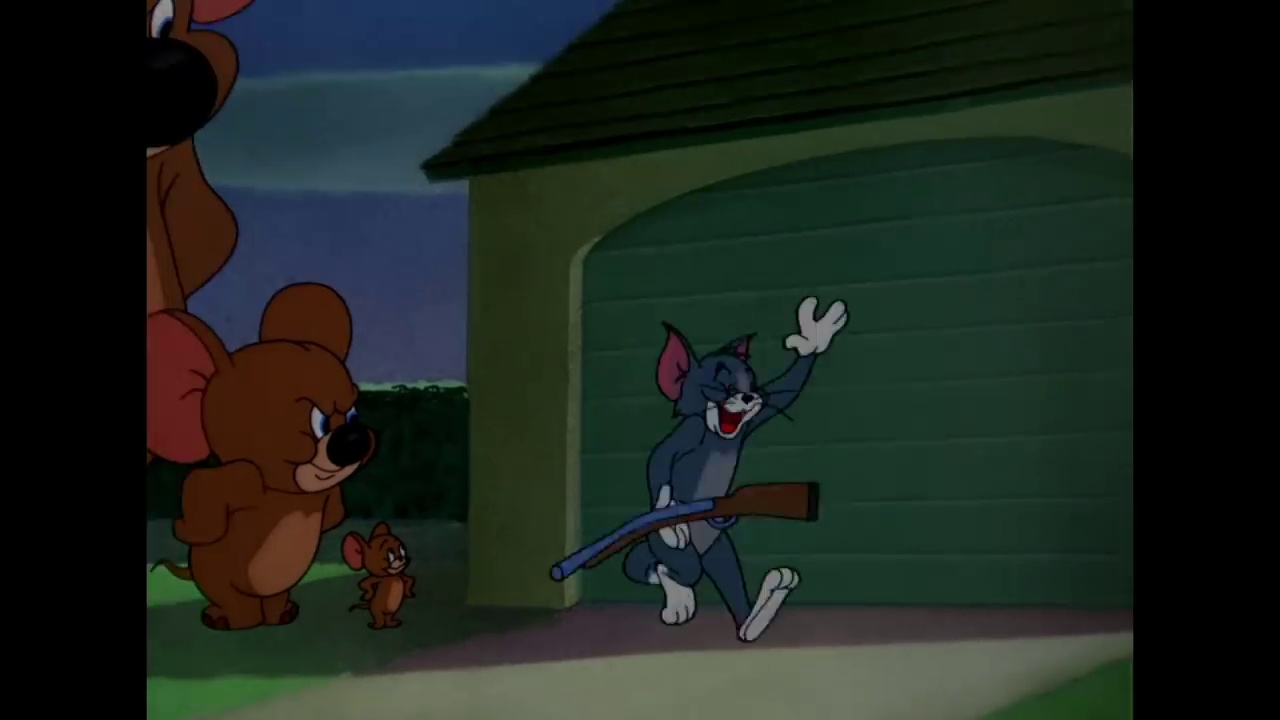tom: (655, 318, 772, 445)
